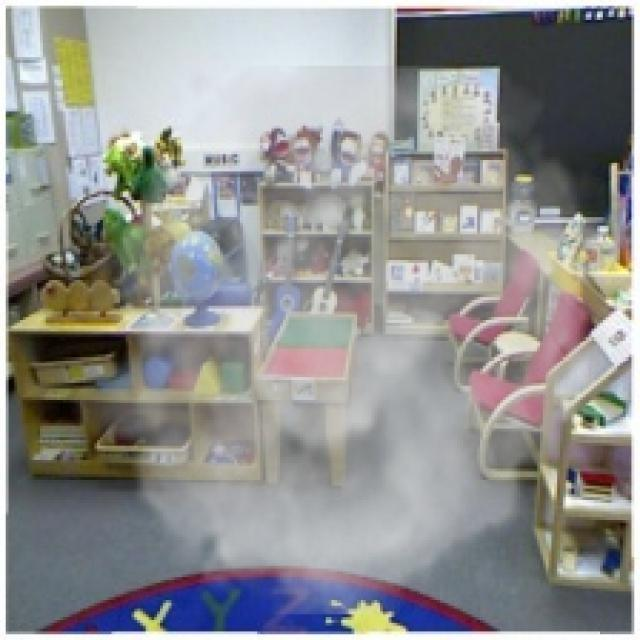Smoke: (72, 66, 638, 614)
